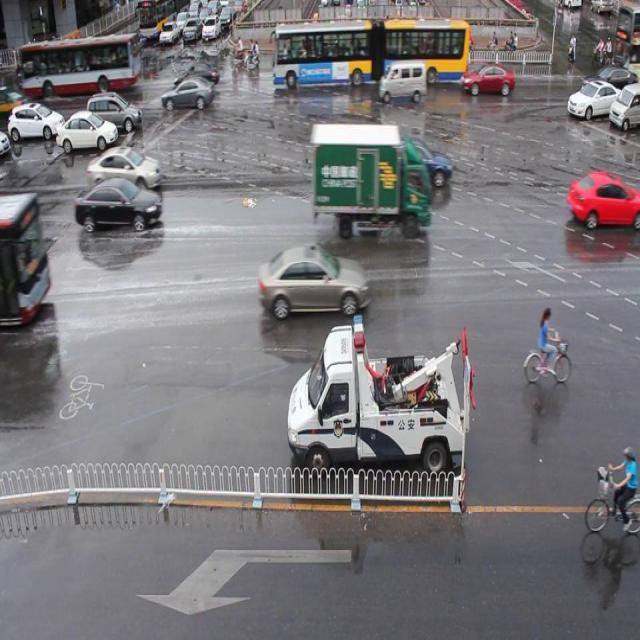bus: (309, 122, 429, 238)
car: (258, 241, 369, 316), (75, 176, 163, 234), (566, 167, 640, 226), (376, 136, 454, 191), (88, 145, 162, 196), (566, 78, 623, 118), (463, 61, 515, 103), (160, 78, 214, 110), (174, 58, 218, 93)
truck: (380, 59, 427, 106)
van: (269, 20, 468, 89)
